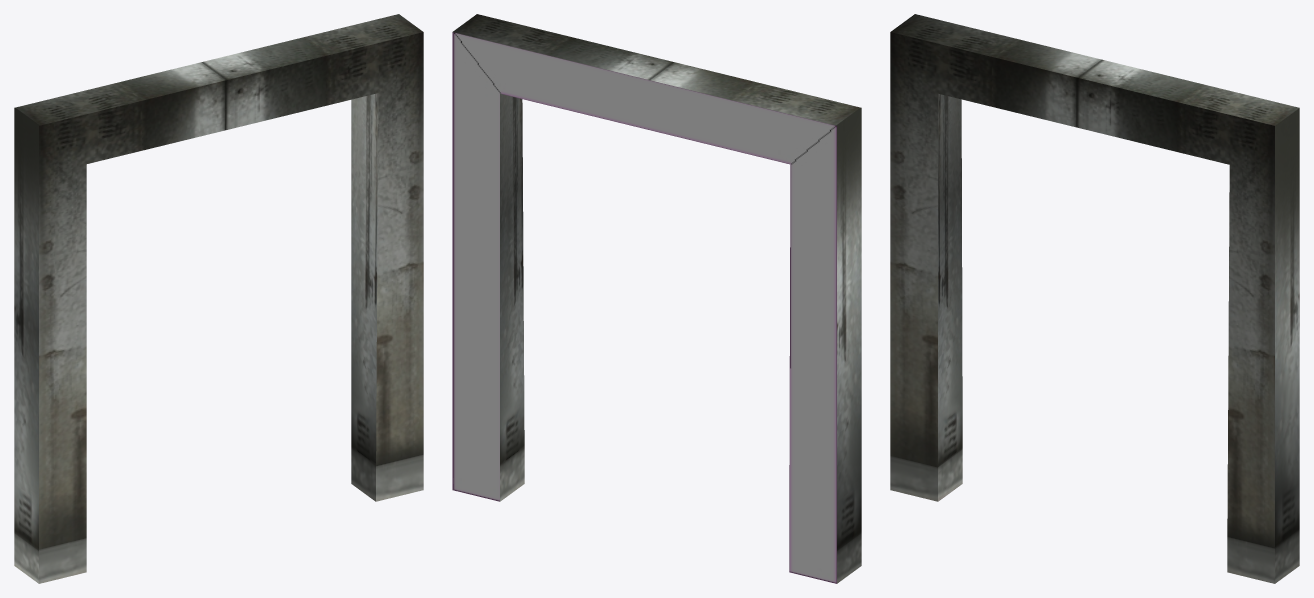
The model's file is DoorFrame.fbx.
3 renders of one model, left to right at view 1: azimuth 30°, elevation 25°; view 2: azimuth 150°, elevation 25°; view 3: azimuth 330°, elevation 25°, orthographic.
Visible parts, largest first — view 1: DoorFrame; view 2: DoorFrame; view 3: DoorFrame.
Part boxes in pixels (<box>): DoorFrame: <box>14,14,423,583</box>; DoorFrame: <box>452,14,861,583</box>; DoorFrame: <box>890,14,1299,583</box>.
Size of the model in its own units: 805 by 916 by 89.51.
